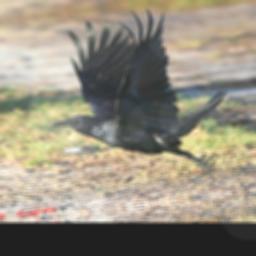Crow: (17, 0, 253, 194)
